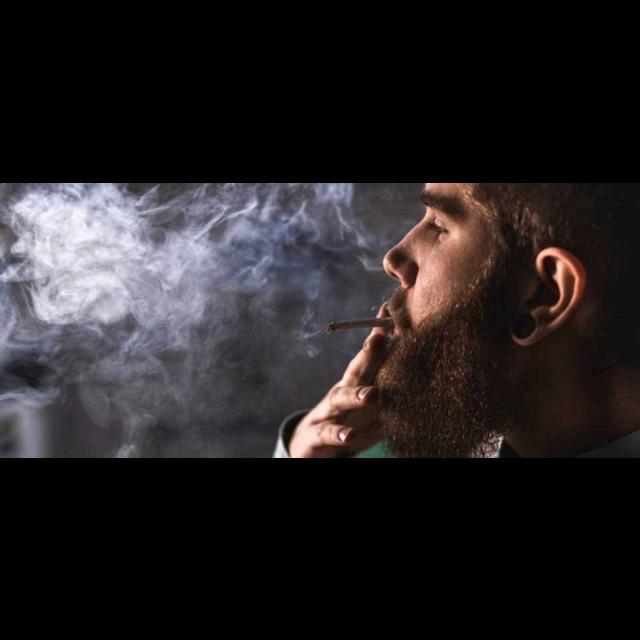rokok: (328, 310, 394, 332)
